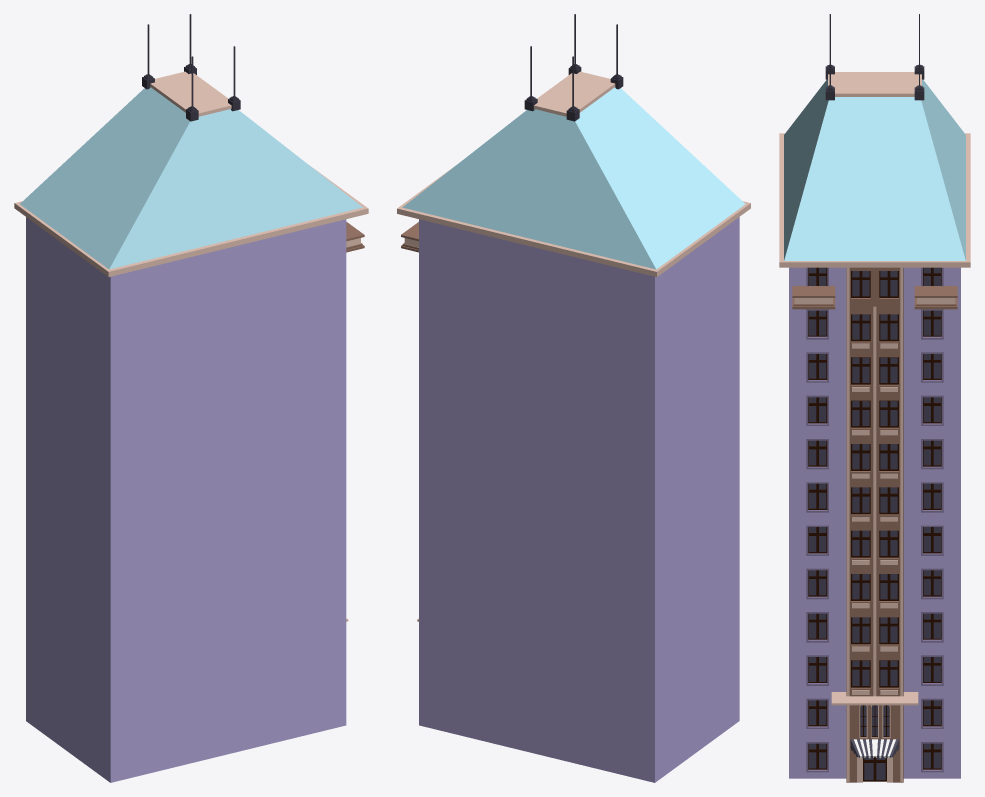
The model's file is Building6.fbx.
The picture shows the model from 3 angles, left to right: view 1: azimuth 30°, elevation 25°; view 2: azimuth 150°, elevation 25°; view 3: azimuth 270°, elevation 25°; orthographic projection.
Visible parts, largest first — view 1: Plane.069, Plane.063, Plane.073, Plane.039, Plane.066, Plane.067, Plane.072, Plane.075, Plane.064, Plane.065, Plane.071, Plane.074 (+1 smaller); view 2: Plane.069, Plane.063, Plane.073, Plane.075, Plane.065, Plane.066, Plane.071, Plane.064, Plane.067, Plane.072, Plane.074, Plane.039 (+1 smaller); view 3: Plane.069, Plane.066, Plane.067, Plane.072, Plane.073, Plane.071, Plane.065, Plane.039, Plane.063, Plane.074, Plane.064, Plane.068 (+2 smaller).
Part boxes in pixels (left/top/right/bottom): Plane.069: left=14, top=14, right=368, bottom=277; Plane.063: left=26, top=618, right=348, bottom=740; Plane.073: left=26, top=338, right=346, bottom=442; Plane.039: left=26, top=679, right=346, bottom=782; Plane.066: left=26, top=508, right=346, bottom=612; Plane.067: left=26, top=466, right=346, bottom=569; Plane.072: left=26, top=381, right=346, bottom=484; Plane.075: left=26, top=253, right=346, bottom=357; Plane.064: left=26, top=593, right=346, bottom=697; Plane.065: left=26, top=551, right=346, bottom=655; Plane.071: left=26, top=423, right=346, bottom=527; Plane.074: left=26, top=295, right=346, bottom=399; Plane.069: left=397, top=14, right=750, bottom=277; Plane.063: left=417, top=618, right=739, bottom=740; Plane.073: left=419, top=338, right=739, bottom=442; Plane.075: left=419, top=253, right=739, bottom=357; Plane.065: left=419, top=551, right=739, bottom=655; Plane.066: left=419, top=508, right=739, bottom=612; Plane.071: left=419, top=423, right=739, bottom=527; Plane.064: left=419, top=593, right=739, bottom=697; Plane.067: left=419, top=466, right=739, bottom=569; Plane.072: left=419, top=380, right=739, bottom=484; Plane.074: left=419, top=295, right=739, bottom=399; Plane.039: left=419, top=678, right=739, bottom=782; Plane.069: left=779, top=14, right=970, bottom=267; Plane.066: left=789, top=562, right=960, bottom=609; Plane.067: left=789, top=519, right=960, bottom=566; Plane.072: left=789, top=432, right=960, bottom=479; Plane.073: left=789, top=389, right=960, bottom=436; Plane.071: left=789, top=475, right=960, bottom=523; Plane.065: left=789, top=605, right=960, bottom=652; Plane.039: left=789, top=735, right=960, bottom=782; Plane.063: left=789, top=692, right=960, bottom=739; Plane.074: left=789, top=345, right=960, bottom=393; Plane.064: left=789, top=649, right=960, bottom=696; Plane.068: left=789, top=267, right=960, bottom=309.
Bounding box in the file's own units: 3332 × 8062 × 2002.
